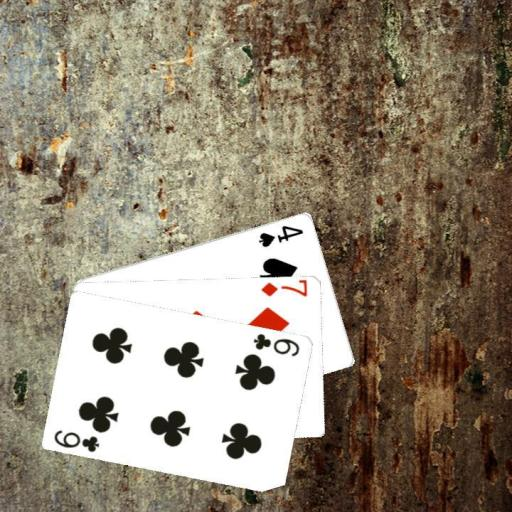4S: (256, 221, 305, 248)
6C: (251, 330, 302, 358), (51, 427, 102, 454)
7D: (258, 279, 309, 298)
